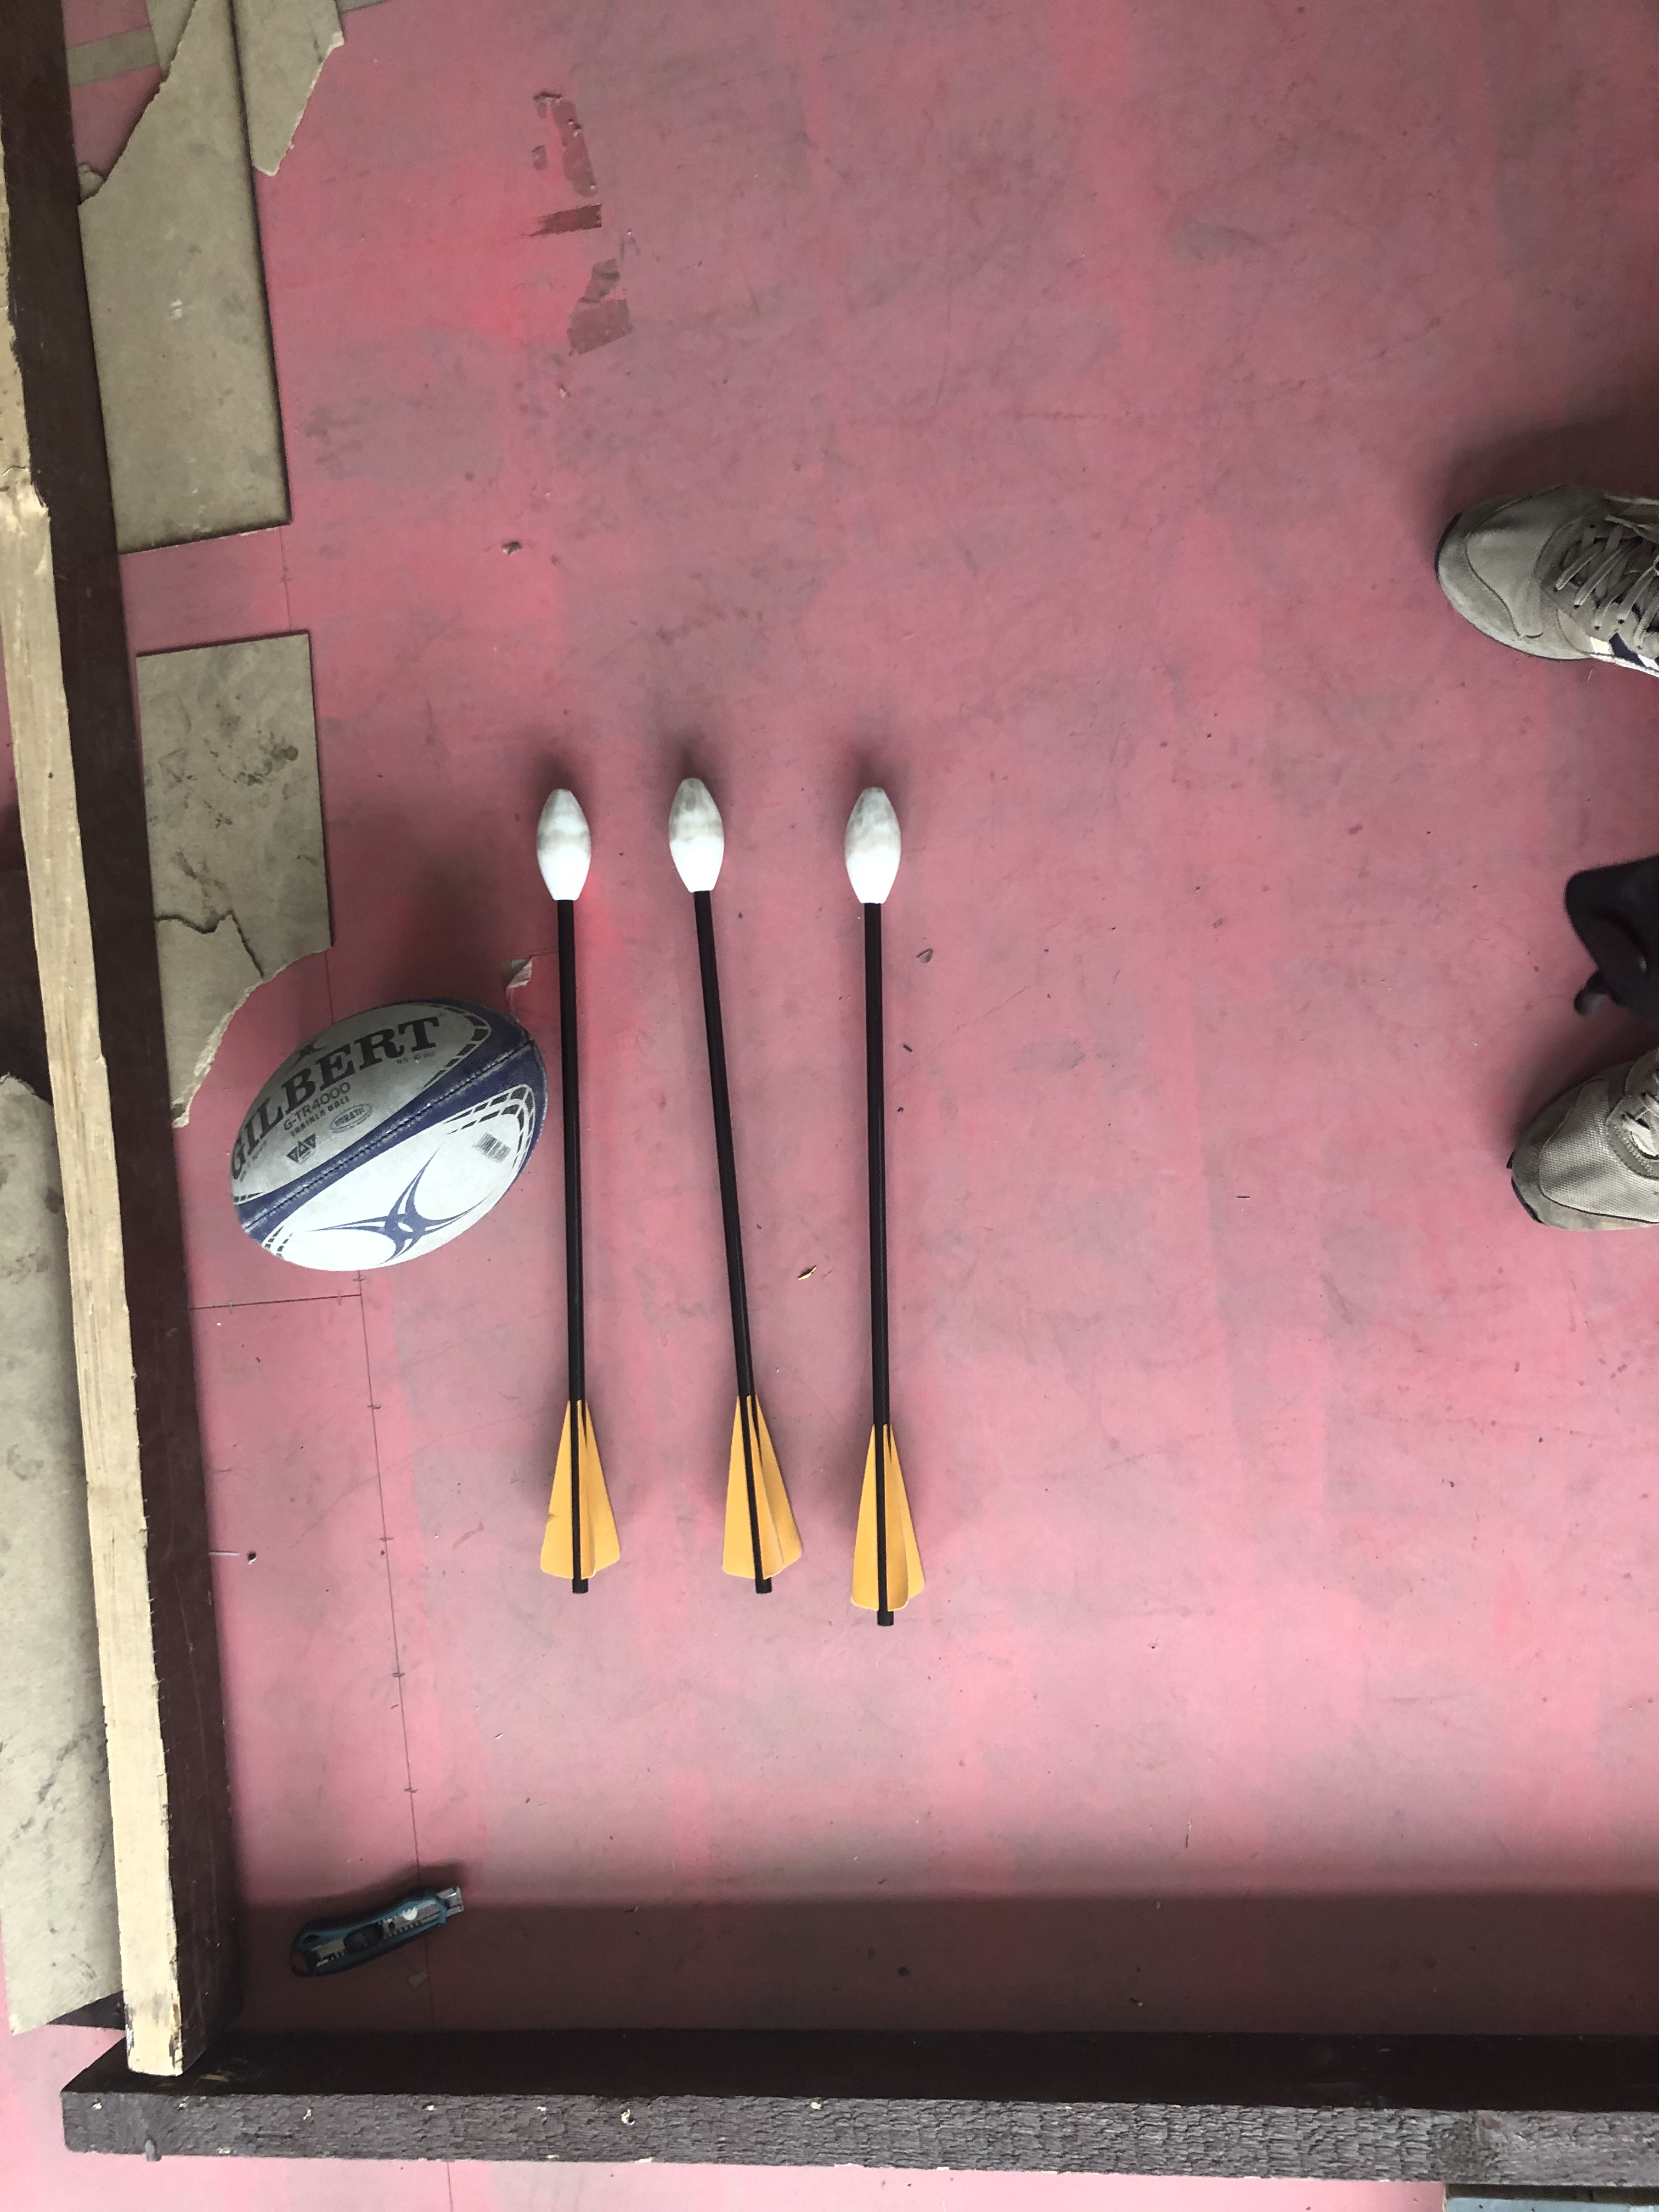arrow: (662, 772, 796, 1601), (836, 787, 941, 1629), (528, 779, 622, 1613)
arrowFront: (532, 782, 598, 907), (662, 773, 728, 897), (845, 782, 904, 911)
